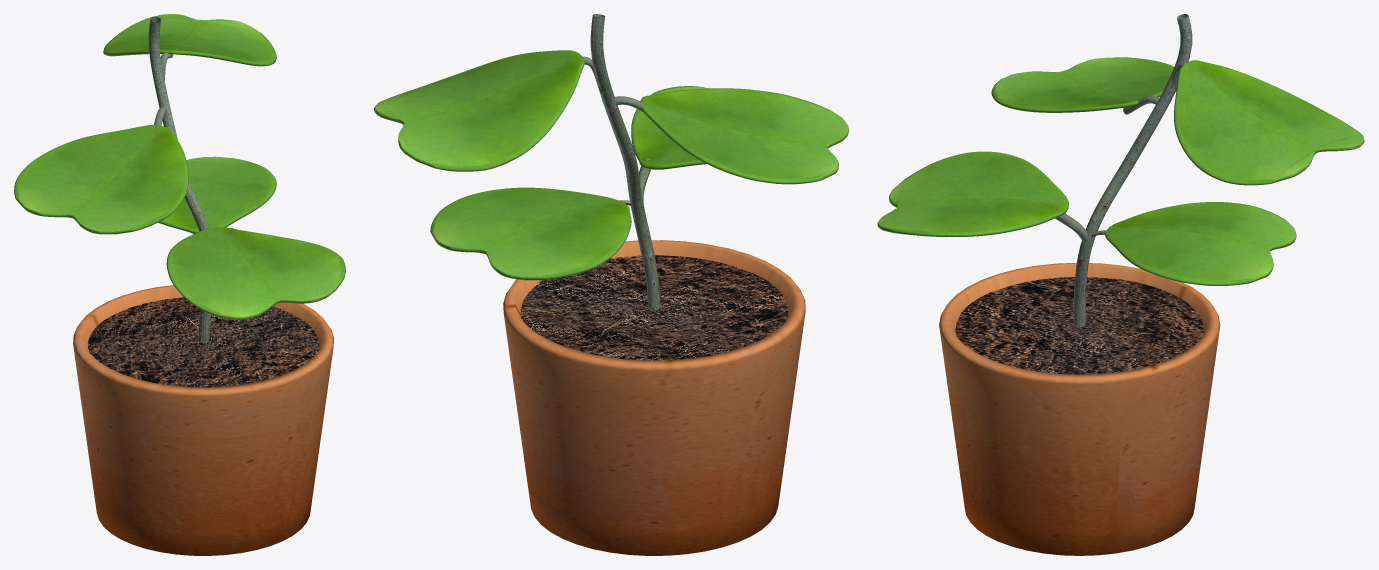
Rendered from hoya_plant.glb.
3 renders of one model, left to right at view 1: azimuth 30°, elevation 25°; view 2: azimuth 150°, elevation 25°; view 3: azimuth 270°, elevation 25°, orthographic. The views are drawn at different scales.
Parts seen in each view (by area): view 1: pCylinder2, pasted__pCube2 (×3), pDisc1, pCube2, nurbsToPoly1; view 2: pCylinder2, pasted__pCube2 (×3), pDisc1, nurbsToPoly1, pCube2; view 3: pCylinder2, pasted__pCube2 (×3), pDisc1, pCube2, nurbsToPoly1.
Boxes of the visible parts, x1,y1,x2,y2 form: pCylinder2: (73, 285, 333, 555); pasted__pCube2 (×3): (14, 14, 276, 234); pDisc1: (88, 297, 318, 387); pCube2: (166, 227, 345, 320); nurbsToPoly1: (148, 16, 210, 343); pCylinder2: (503, 240, 805, 555); pasted__pCube2 (×3): (374, 50, 848, 280); pDisc1: (520, 255, 788, 360); nurbsToPoly1: (590, 14, 660, 309); pCube2: (631, 86, 709, 169); pCylinder2: (939, 263, 1220, 555); pasted__pCube2 (×3): (991, 57, 1364, 285); pDisc1: (955, 277, 1203, 374); pCube2: (877, 151, 1068, 236); nurbsToPoly1: (1073, 14, 1192, 327).
Size of the model in its own units: 0.0408 by 0.0569 by 0.0506.
11 materials, 11 textured.
